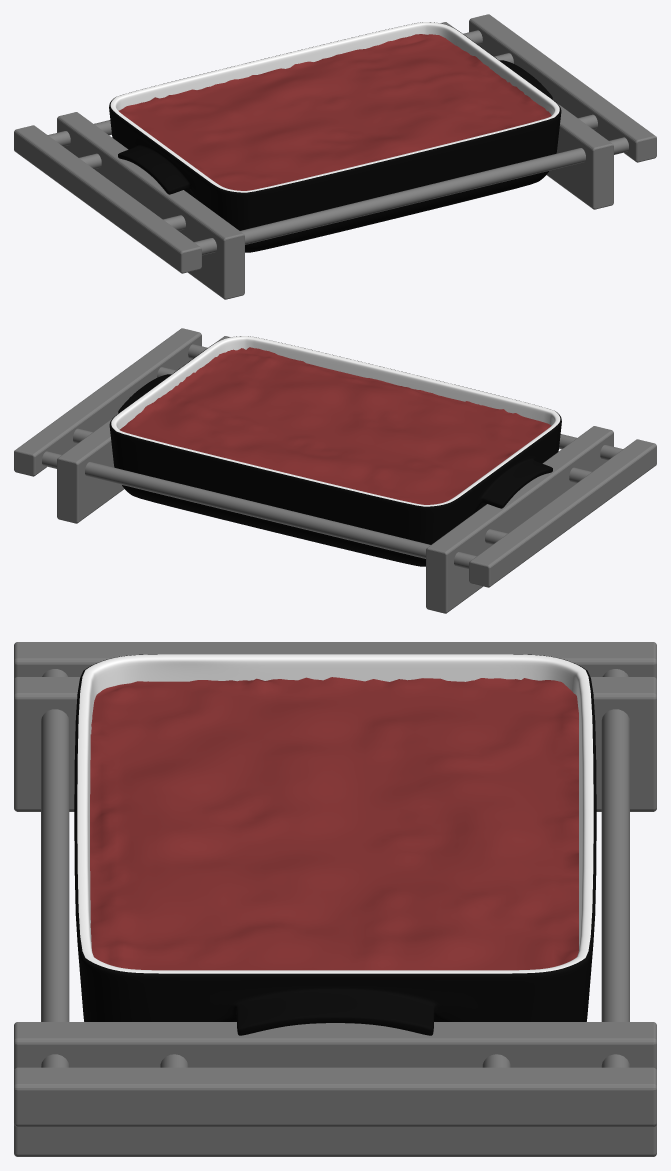
File: Lasagna.FBX
3 renders of one model, top to bottom at view 1: azimuth 30°, elevation 25°; view 2: azimuth 150°, elevation 25°; view 3: azimuth 270°, elevation 25°, orthographic. The views are drawn at different scales.
Visible parts, largest first — view 1: Lasagna, Wood_Rack, Porcelain_Bowl; view 2: Lasagna, Wood_Rack, Porcelain_Bowl; view 3: Lasagna, Wood_Rack, Porcelain_Bowl.
Boxes of the visible parts, box(x1,y1,x2,y2) form: Lasagna: box(118, 34, 551, 190); Wood_Rack: box(14, 14, 656, 299); Porcelain_Bowl: box(109, 22, 561, 252); Lasagna: box(120, 347, 551, 504); Wood_Rack: box(14, 328, 656, 613); Porcelain_Bowl: box(109, 336, 561, 566); Lasagna: box(90, 677, 578, 970); Wood_Rack: box(14, 642, 656, 1156); Porcelain_Bowl: box(74, 654, 596, 1035).
Bounding box in the file's own units: 443 × 75.2 × 270.
